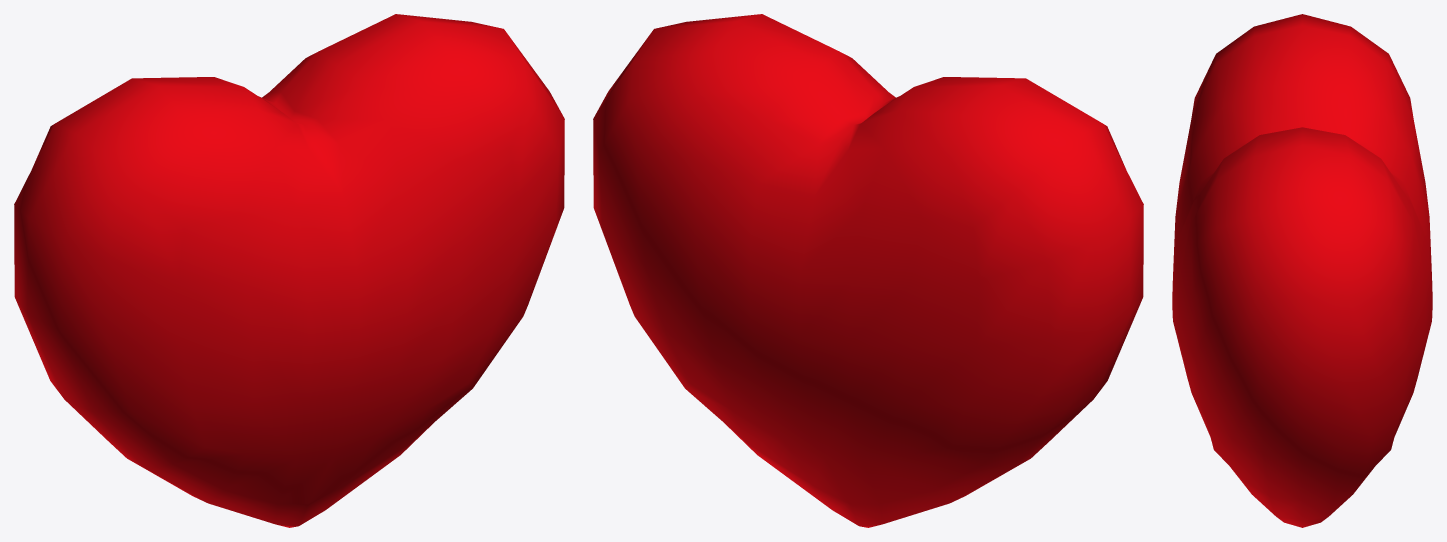
The model's file is love_heart.glb.
3 renders of one model, left to right at view 1: azimuth 30°, elevation 25°; view 2: azimuth 150°, elevation 25°; view 3: azimuth 270°, elevation 25°, orthographic. The views are drawn at different scales.
Parts seen in each view (by area): view 1: Vert; view 2: Vert; view 3: Vert.
Part boxes in pixels (bbox=[...]): Vert: bbox=[14, 14, 564, 527]; Vert: bbox=[593, 14, 1143, 527]; Vert: bbox=[1172, 14, 1432, 527].
Size of the model in its own units: 2.83 by 2.45 by 1.31.
